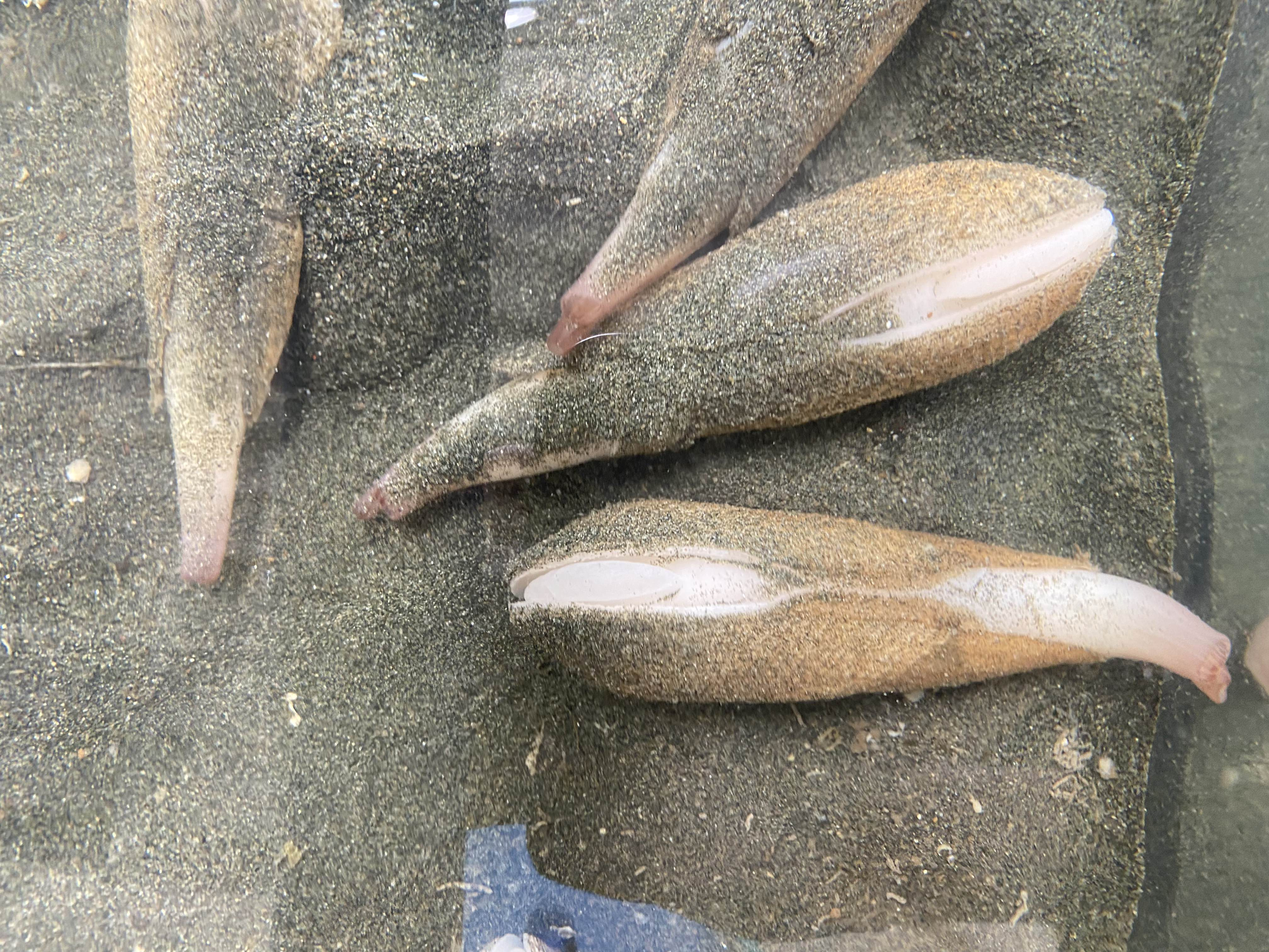Healthy: (360, 160, 1114, 517), (511, 500, 1230, 702), (548, 0, 925, 353), (127, 0, 342, 584)
